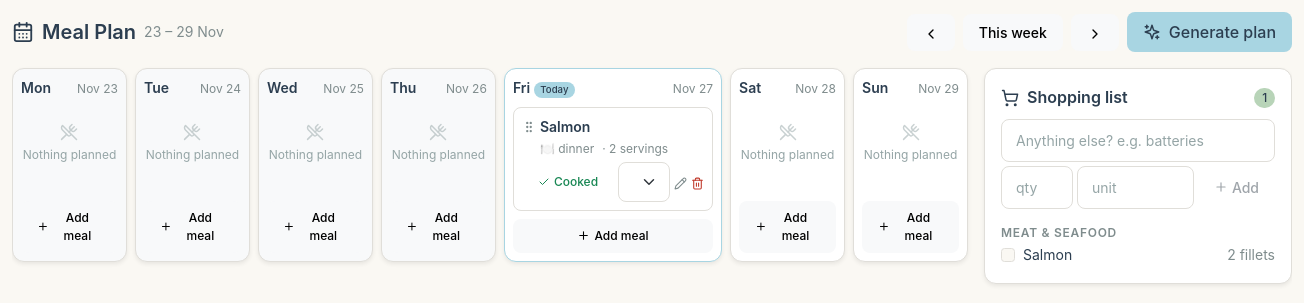
Scenario: marking a meal cooked › tells the cook when it could not be logged
Expected: the heading "Meal Plan" is shown, [42,19,136,45]
Click the button "Cooked" at (568, 182), box [522,173,614,191]
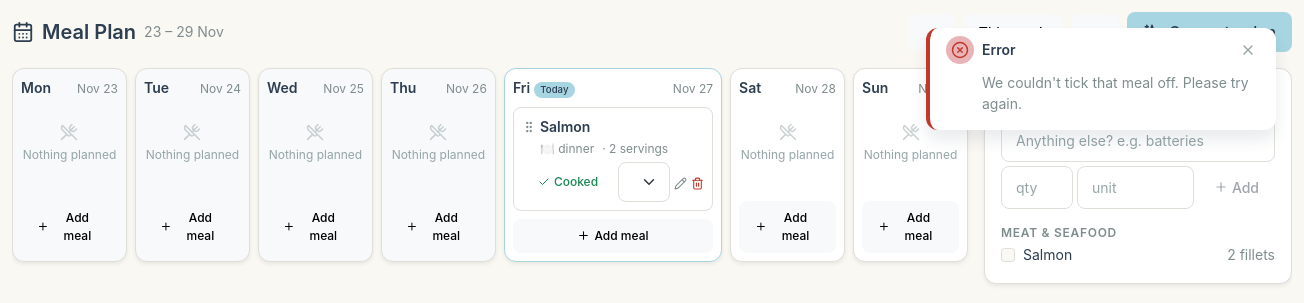
Now the text "We couldn't tick that meal off. Please try again." is shown, box [982,74,1249,112]
